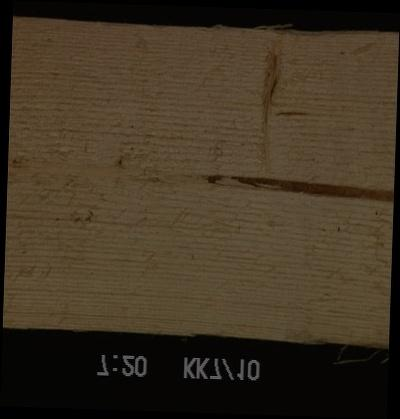small_knot: (7, 148, 36, 174), (103, 153, 134, 177)
